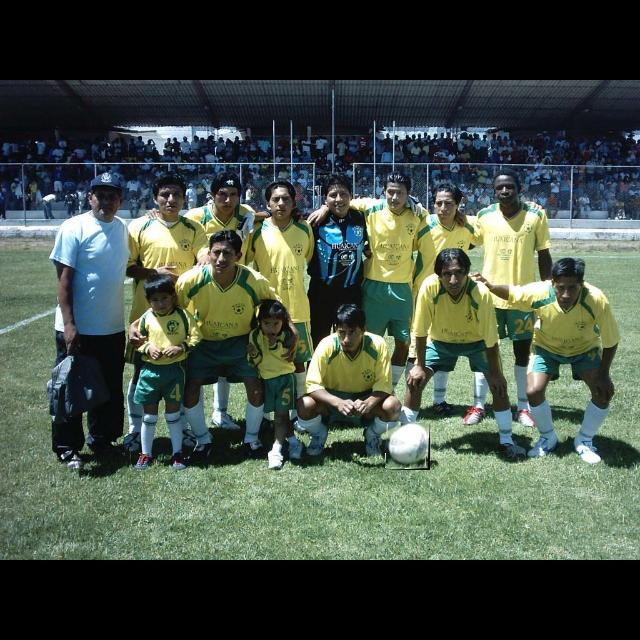Football: (386, 422, 430, 470)
